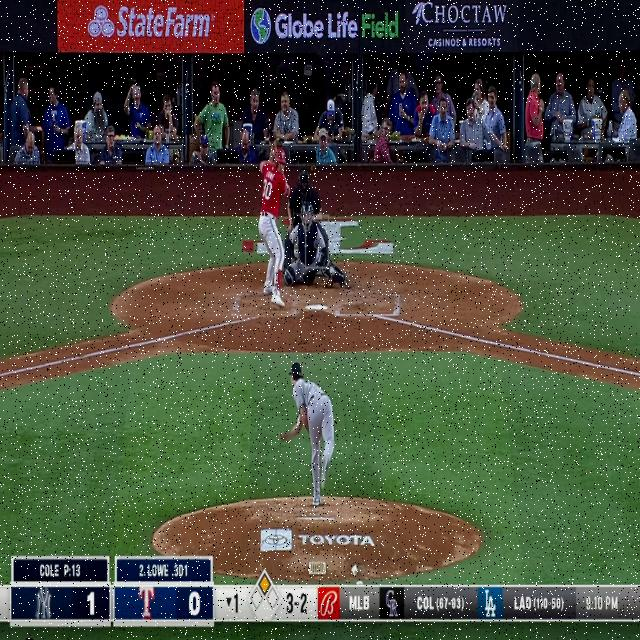baseball: (330, 266, 334, 276)
